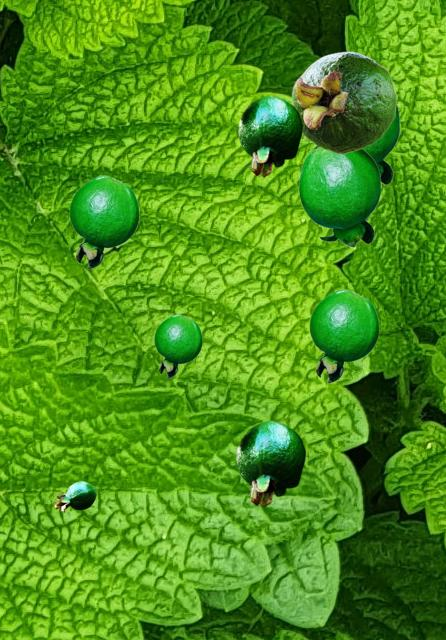guava: (291, 51, 396, 153), (298, 147, 380, 246), (316, 103, 399, 185), (309, 289, 378, 382), (69, 175, 138, 268), (236, 420, 305, 506), (238, 95, 302, 176), (154, 314, 201, 377), (53, 481, 95, 511)
